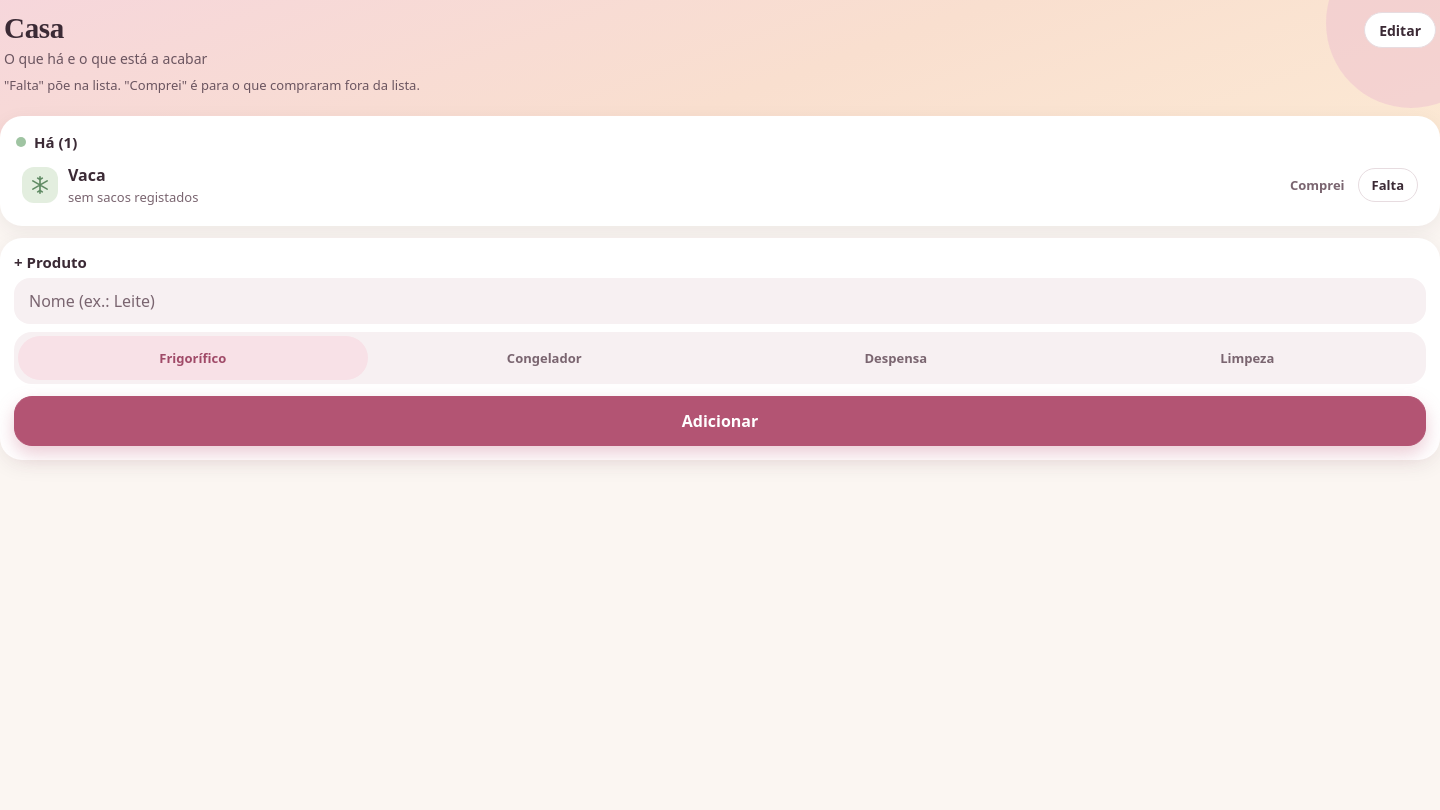
Scenario: Comprei on a Congelador product records the purchase and opens Para o congelador
Click the button with aria-label "Comprei Vaca" at [1317, 185], box [1281,168,1354,202]
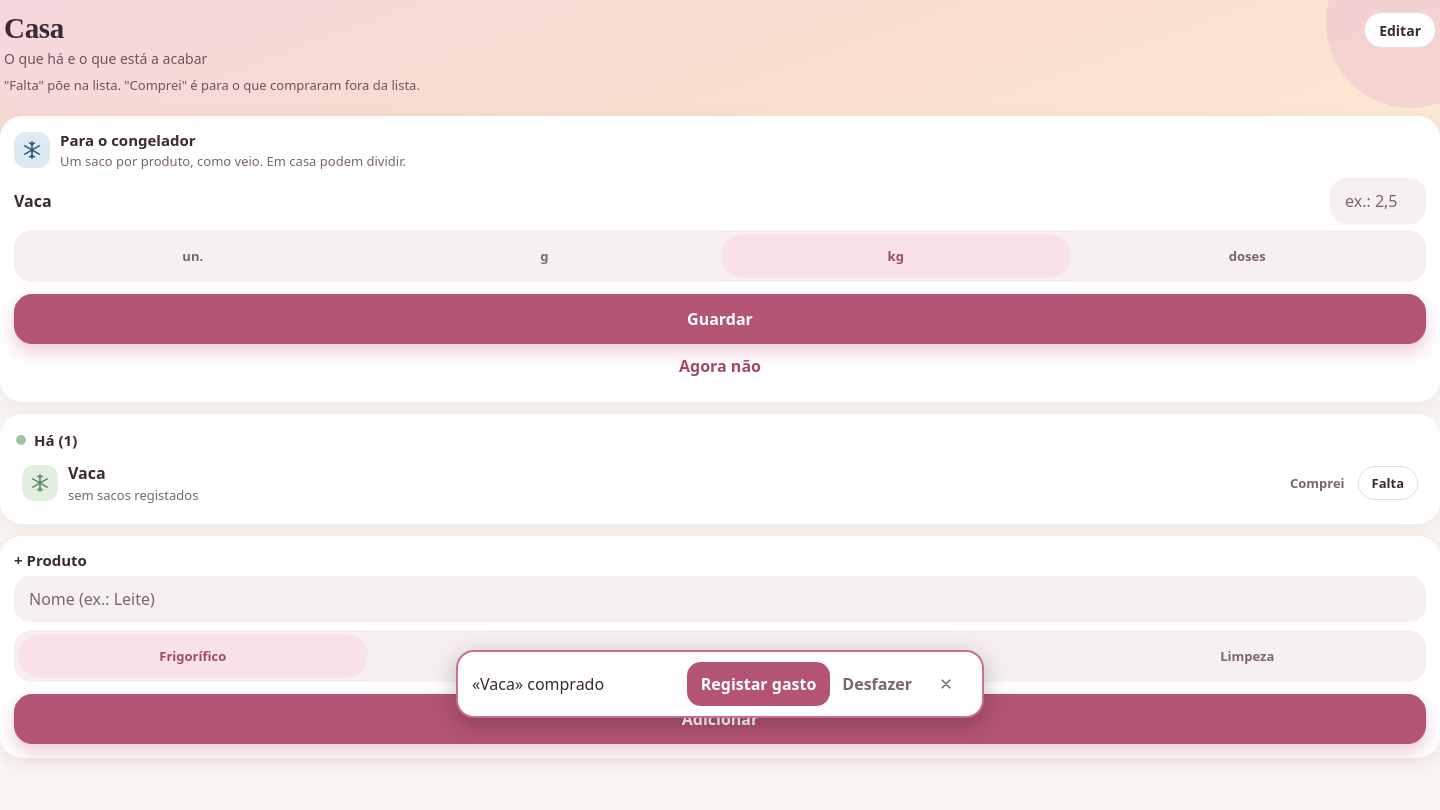
Result: the heading "Para o congelador" is shown at [60,130,196,150]
Click the button "Agora não" at [720, 366], box [14,344,1426,388]
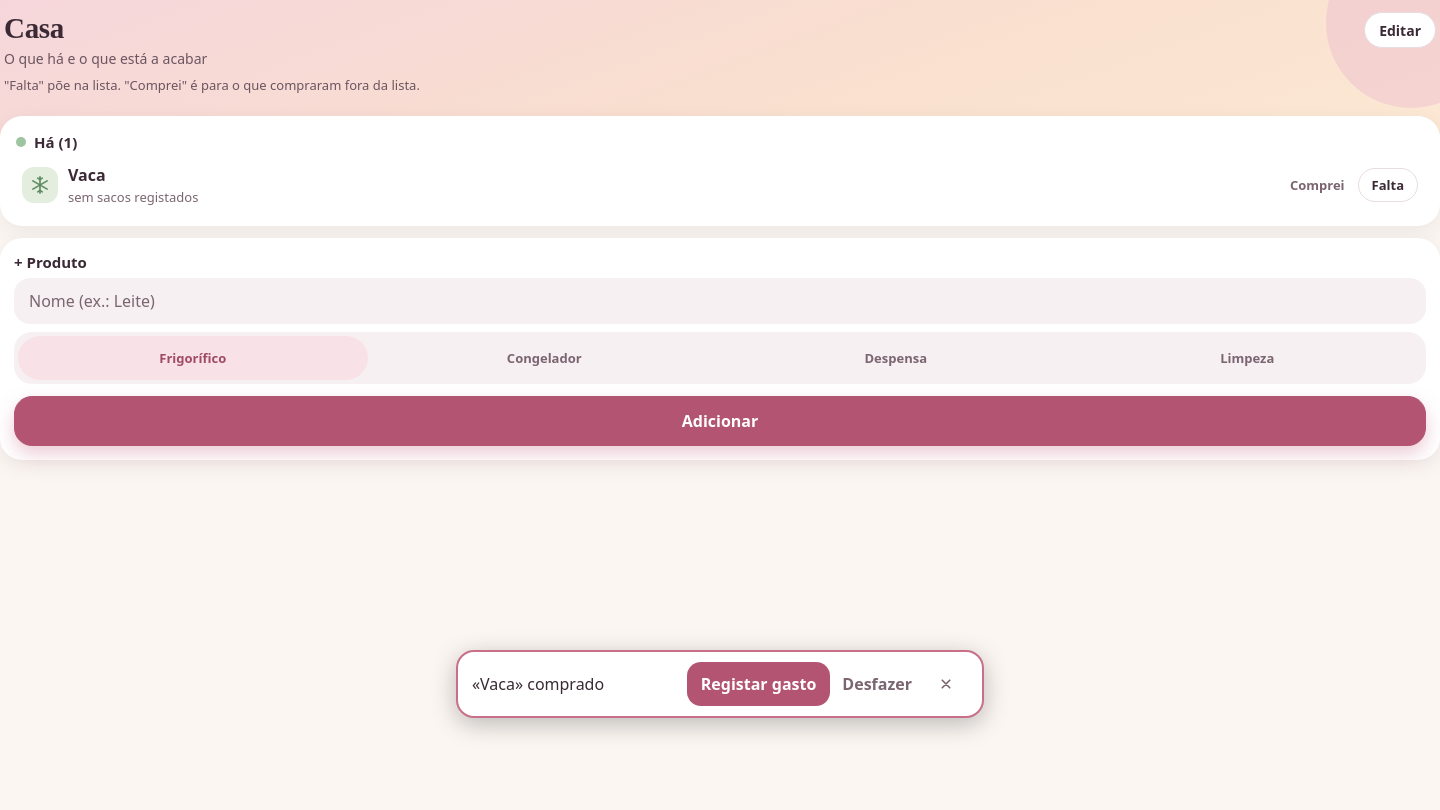
Result: the heading "Para o congelador" is gone
